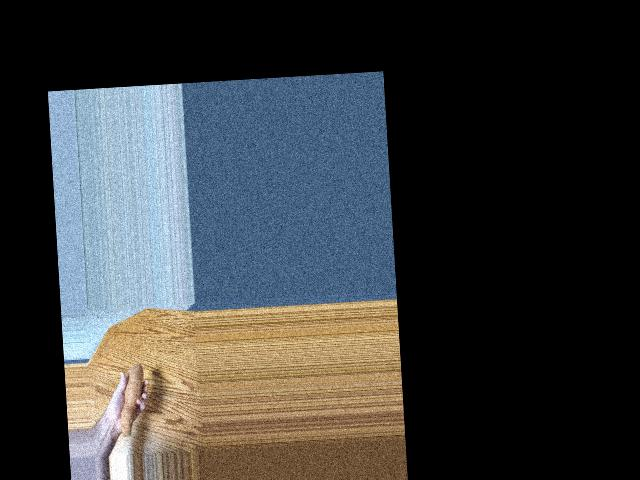sweet_potato: (116, 361, 147, 435)
